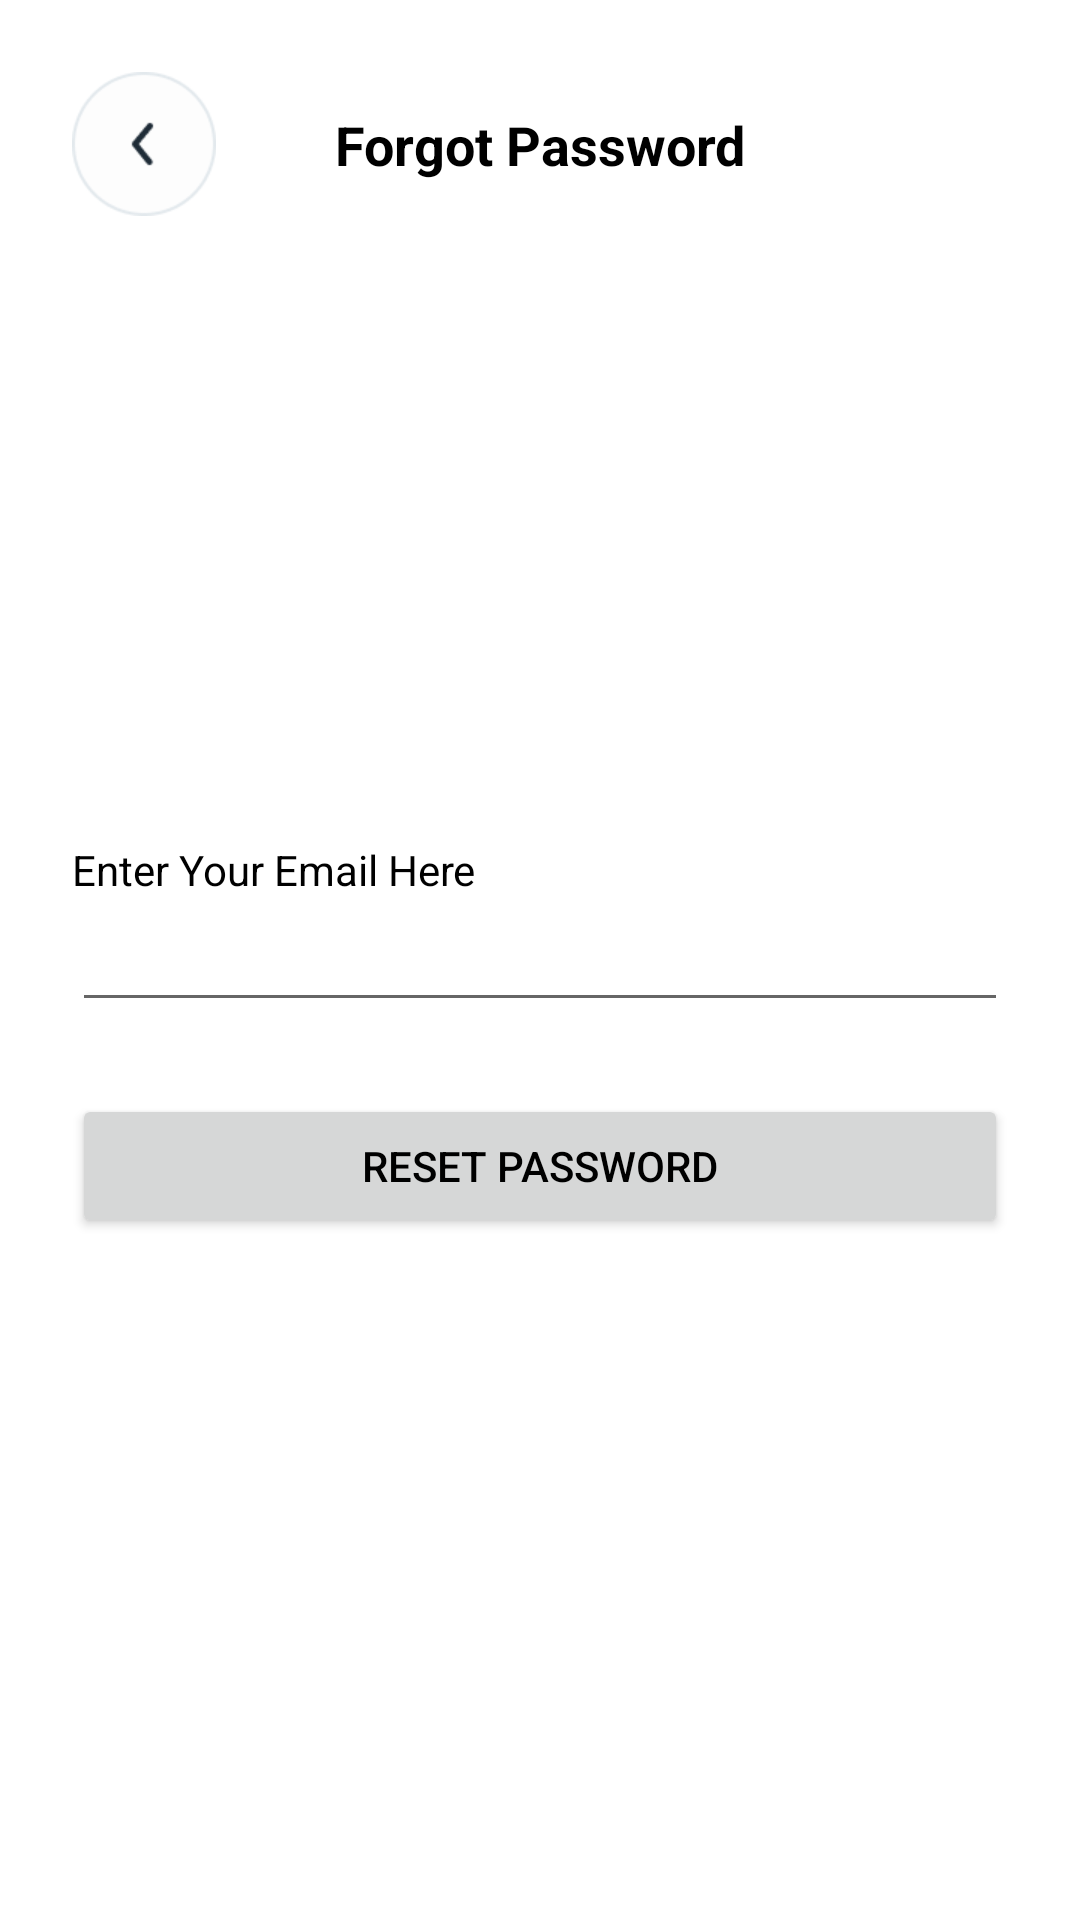

Icons on this 1080x1920 Android screen, each with the point to tap as (x,y):
arrow back: (144,144)
